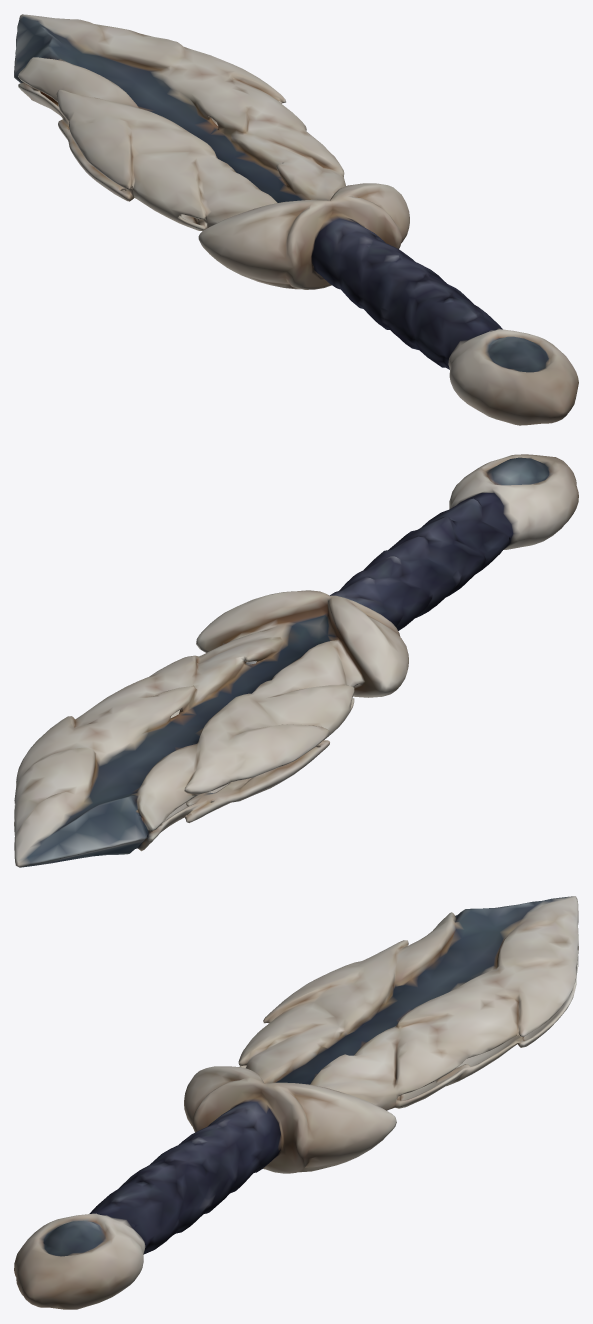
File: Qusap_BasicSword_LargeGrip_25K.fbx
3 views of the same model, one above another, from view 1: azimuth 30°, elevation 25°; view 2: azimuth 150°, elevation 25°; view 3: azimuth 330°, elevation 25° (orthographic).
Parts seen in each view (by area): view 1: Qusap_BasicSword_LargeGrip_25K; view 2: Qusap_BasicSword_LargeGrip_25K; view 3: Qusap_BasicSword_LargeGrip_25K.
Part boxes in pixels (x1=…): Qusap_BasicSword_LargeGrip_25K: x1=14, y1=14, x2=578, y2=425; Qusap_BasicSword_LargeGrip_25K: x1=14, y1=454, x2=578, y2=867; Qusap_BasicSword_LargeGrip_25K: x1=14, y1=896, x2=578, y2=1309.
Size of the model in its own units: 22.74 by 8.85 by 99.88.
